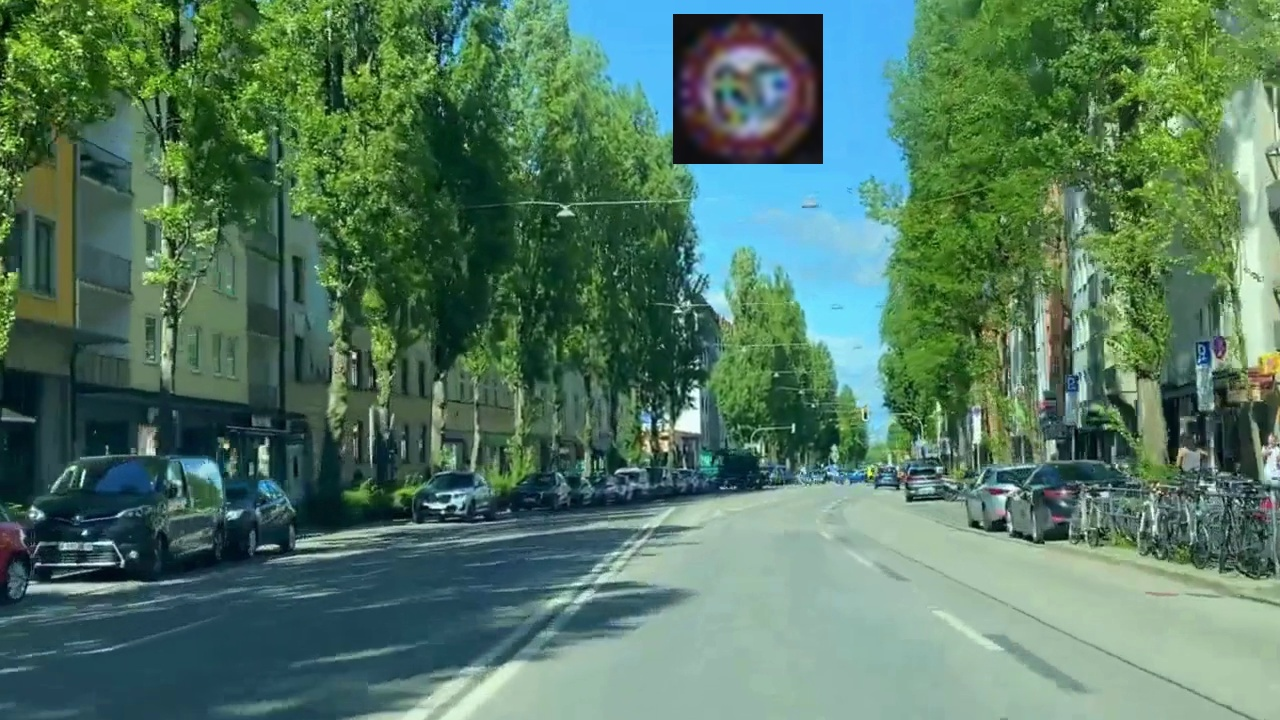Speed 80: (673, 14, 823, 164)
